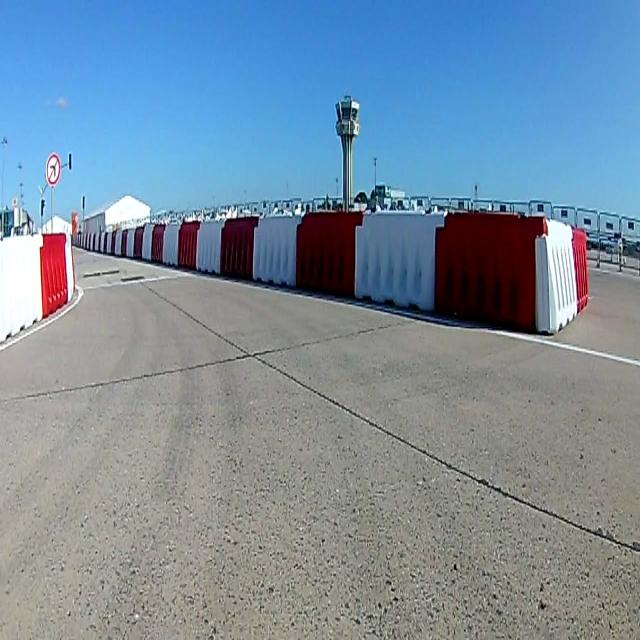soladonulmez: (46, 152, 63, 189)
